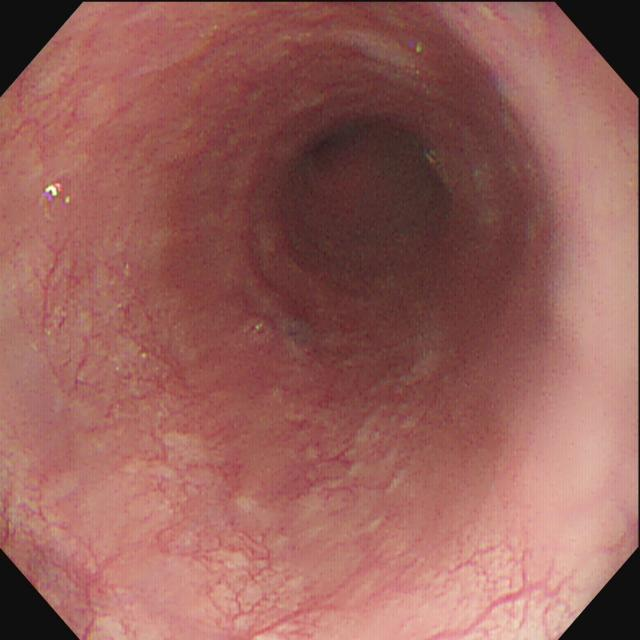E: (272, 95, 466, 282)
U: (43, 181, 73, 205)
